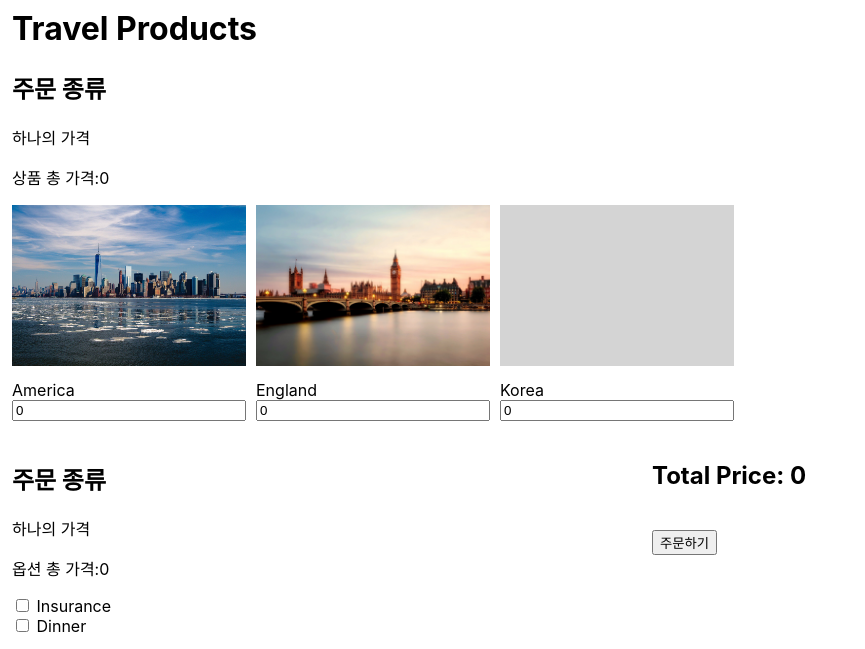
Test: 상품 가격, 옵션 가격을 더한 촉 가격 구하기 › 총 가격의 시작이 0 에서 상품 가격이 추가 되었을 경우 테스트
Expected: the heading "Total Price: 0" is shown, left=652, top=461, right=806, bottom=490
Replace the text in the number field labelled "America" with "1": (129,410) left=12, top=400, right=246, bottom=421
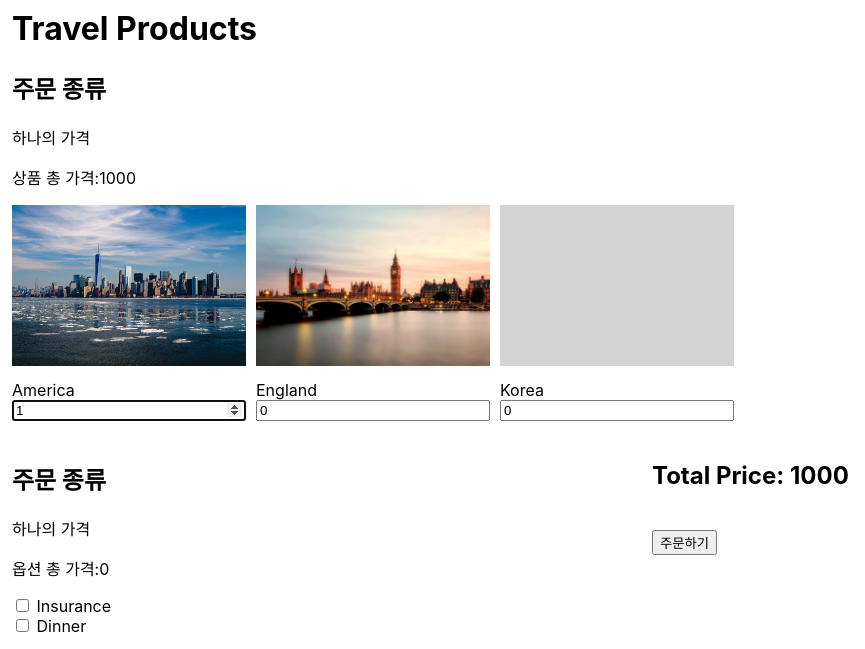
Result: the heading "Total Price: 1000" is shown at left=652, top=461, right=849, bottom=490
